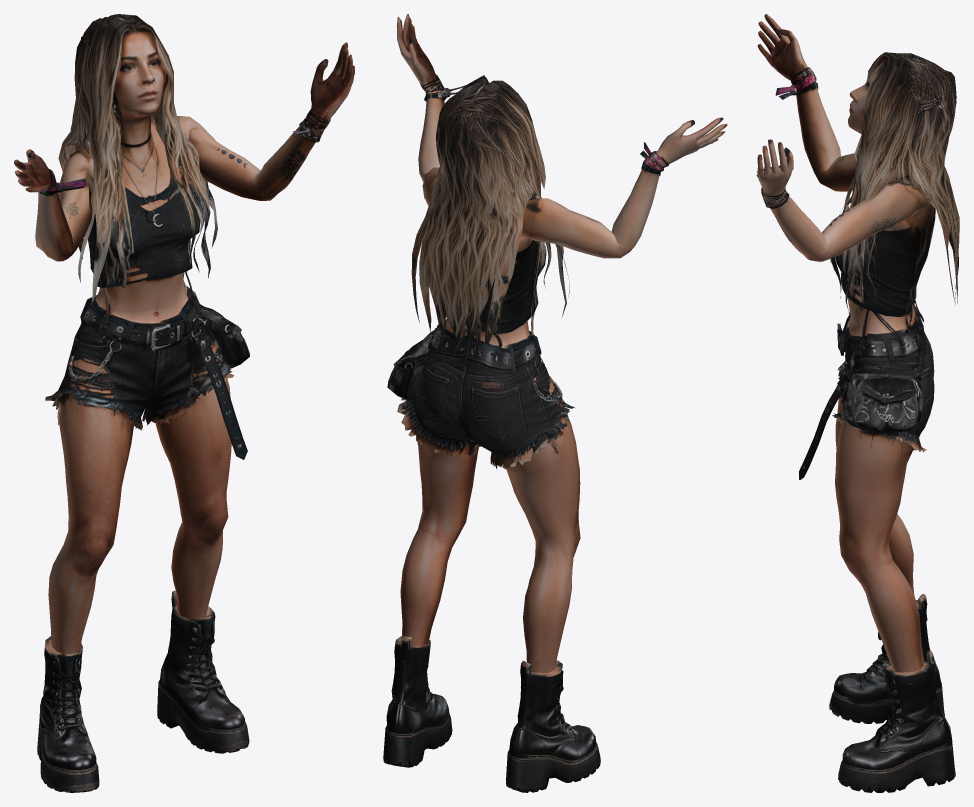
Rendered from fan_04_static_alt_1k.glb.
3 renders of one model, left to right at view 1: azimuth 30°, elevation 25°; view 2: azimuth 150°, elevation 25°; view 3: azimuth 270°, elevation 25°, orthographic. The views are drawn at different scales.
Visible parts, largest first — view 1: fan_04_baked_pose; view 2: fan_04_baked_pose; view 3: fan_04_baked_pose.
Part boxes in pixels (<box>): fan_04_baked_pose: <box>14,14,354,792</box>; fan_04_baked_pose: <box>383,14,727,792</box>; fan_04_baked_pose: <box>756,14,959,792</box>.
Bounding box in the file's own units: 0.4851 × 0.9898 × 0.2637.
Materials: 1 (1 with a texture image).
